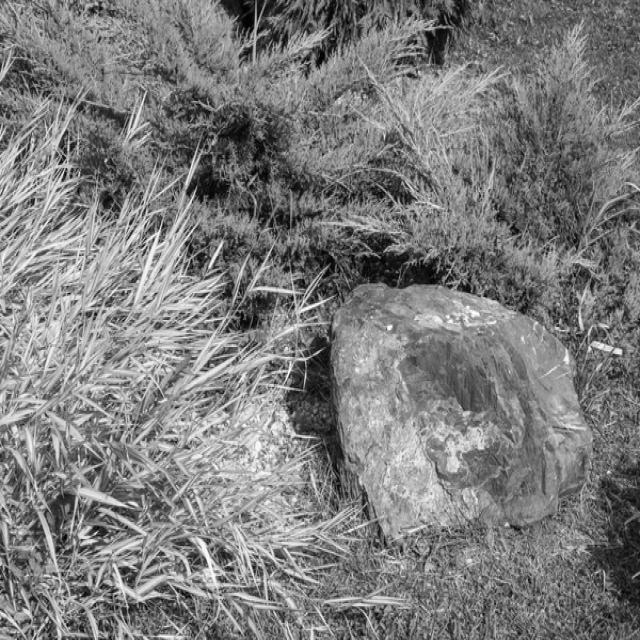Stone: (332, 284, 594, 538)
